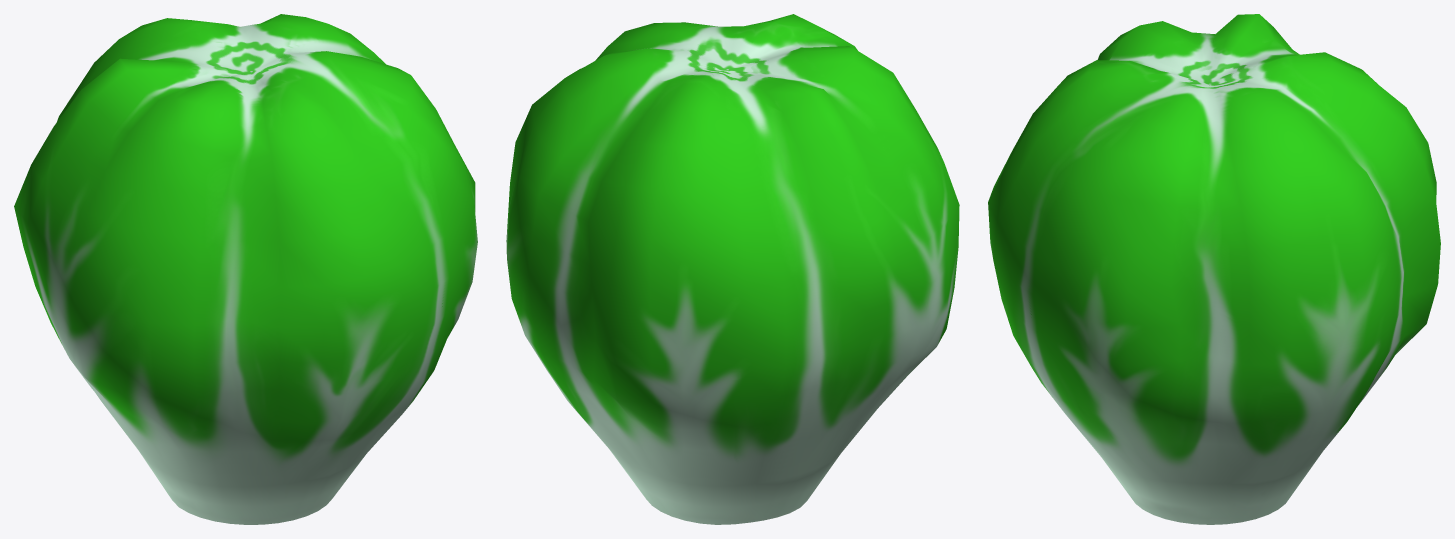
Rendered from lettucehead.fbx.
The picture shows the model from 3 angles, left to right: view 1: azimuth 30°, elevation 25°; view 2: azimuth 150°, elevation 25°; view 3: azimuth 270°, elevation 25°; orthographic projection. The views are drawn at different scales.
Parts seen in each view (by area): view 1: Sphere; view 2: Sphere; view 3: Sphere.
Part boxes in pixels (left/top/right/bottom): Sphere: left=14, top=14, right=477, bottom=524; Sphere: left=506, top=14, right=959, bottom=524; Sphere: left=988, top=14, right=1440, bottom=524.
Size of the model in its own units: 144 by 163 by 150.
1 material, 1 textured.
